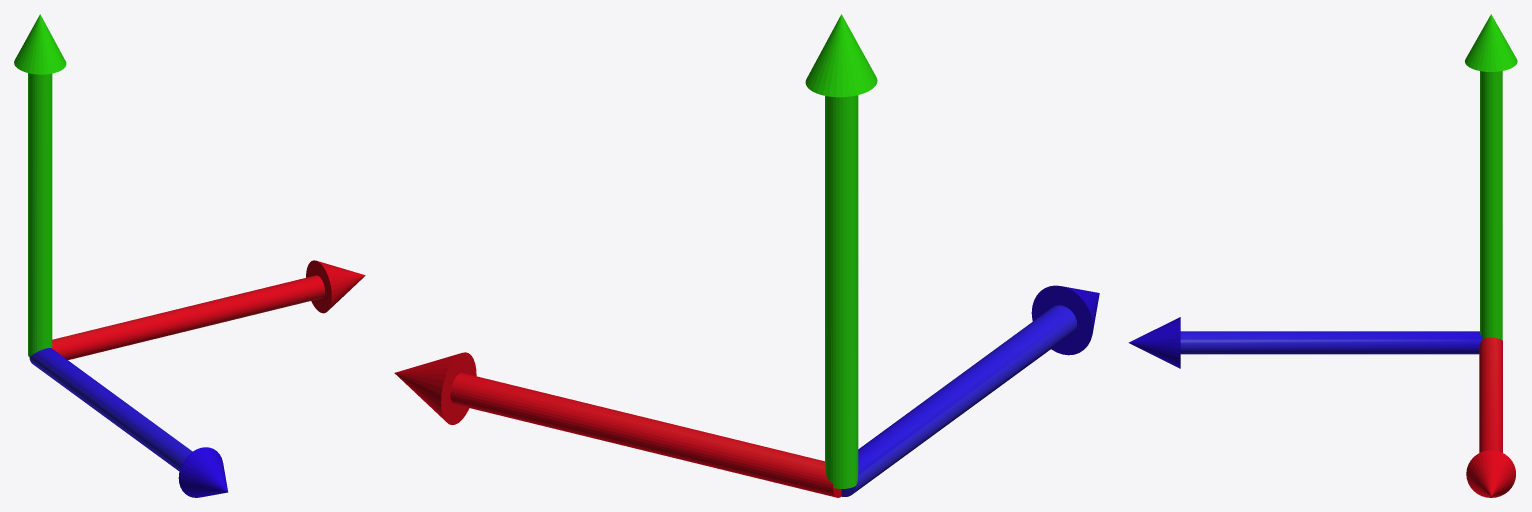
Rendered from 3d_axis.obj.
3 views of the same model, side by side, from view 1: azimuth 30°, elevation 25°; view 2: azimuth 150°, elevation 25°; view 3: azimuth 270°, elevation 25° (orthographic). The views are drawn at different scales.
Visible parts, largest first — view 1: Cylinder.002, Cylinder.001, Cylinder, Cone, Cone.002, Cone.001; view 2: Cylinder.002, Cylinder.001, Cylinder, Cone.002, Cone.001, Cone; view 3: Cylinder, Cylinder.002, Cylinder.001, Cone.001, Cone.002, Cone.
Boxes of the visible parts, box(x1,y1,x2,y2) form: Cylinder.002: box(28, 73, 52, 357); Cylinder.001: box(52, 275, 324, 359); Cylinder: box(29, 348, 192, 471); Cone: box(178, 447, 228, 497); Cone.002: box(14, 14, 66, 74); Cone.001: box(306, 260, 365, 313); Cylinder.002: box(825, 95, 858, 488); Cylinder.001: box(450, 373, 841, 497); Cylinder: box(841, 305, 1076, 496); Cone.002: box(805, 14, 877, 97); Cone.001: box(394, 352, 476, 424); Cone: box(1031, 285, 1099, 355); Cylinder: box(1180, 331, 1482, 354); Cylinder.002: box(1480, 71, 1502, 339); Cylinder.001: box(1479, 337, 1502, 452); Cone.001: box(1466, 450, 1515, 497); Cone.002: box(1465, 14, 1517, 71); Cone: box(1128, 317, 1180, 368).
Size of the model in its own units: 2.3 by 2.31 by 2.31.
